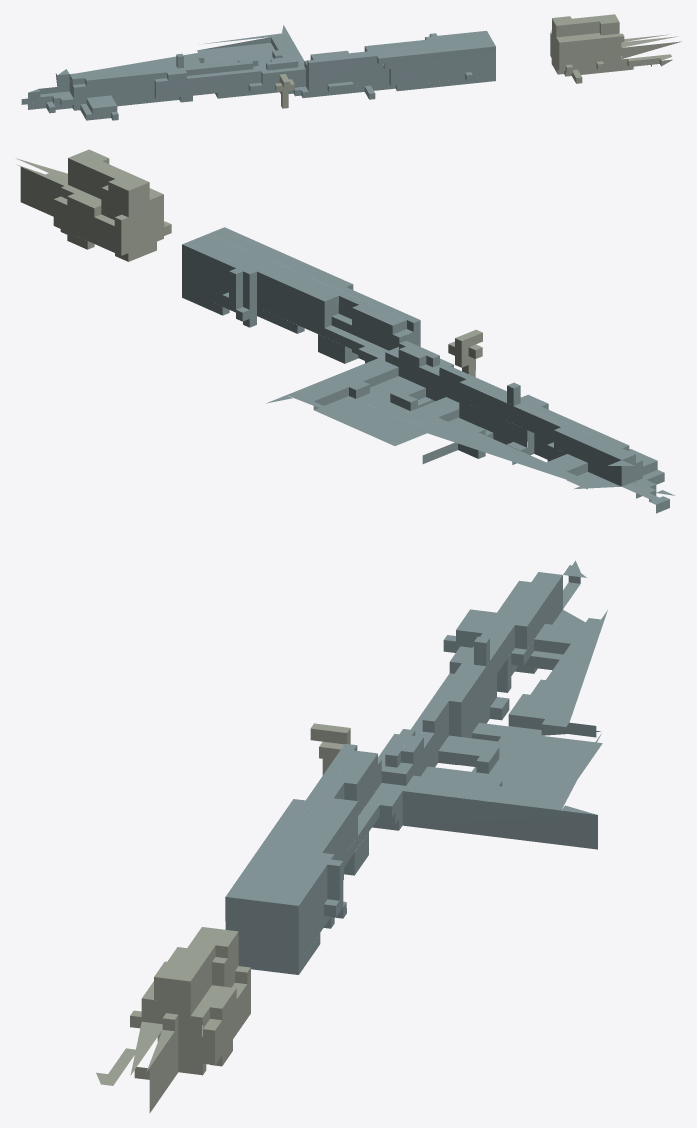
3 views of the same model, one above another, from view 1: azimuth 30°, elevation 25°; view 2: azimuth 150°, elevation 25°; view 3: azimuth 270°, elevation 25° (orthographic). The views are drawn at different scales.
Parts seen in each view (by area): view 1: measured-industrial; view 2: measured-industrial; view 3: measured-industrial.
Part boxes in pixels (x1,y1,x2,y2): measured-industrial: [21, 14, 681, 120]; measured-industrial: [16, 149, 675, 513]; measured-industrial: [96, 560, 607, 1113].
Size of the model in its own units: 150 by 12.06 by 61.22.
